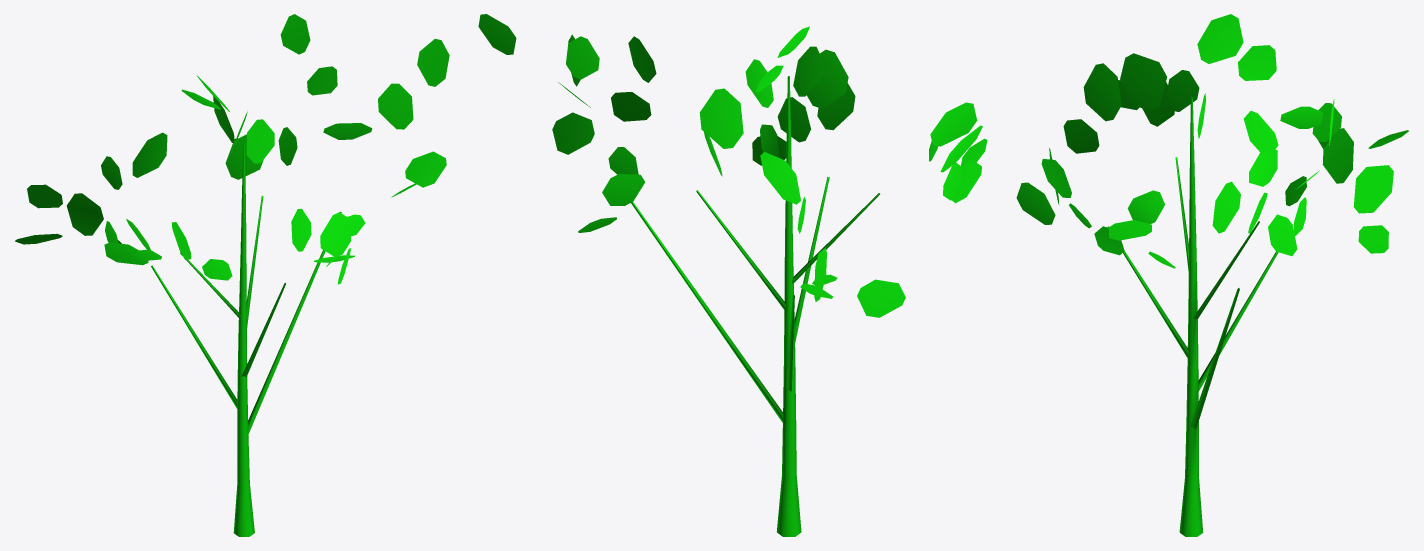
The model's file is tree_maple_b_lod1.glb.
The picture shows the model from 3 angles, left to right: view 1: azimuth 30°, elevation 25°; view 2: azimuth 150°, elevation 25°; view 3: azimuth 270°, elevation 25°; orthographic projection. The views are drawn at different scales.
Visible parts, largest first — view 1: tree_maple_b_lod1.1, tree_maple_b_lod1.0; view 2: tree_maple_b_lod1.1, tree_maple_b_lod1.0; view 3: tree_maple_b_lod1.1, tree_maple_b_lod1.0.
Part boxes in pixels (x1,y1,x2,y2): tree_maple_b_lod1.1: (15, 14, 449, 284); tree_maple_b_lod1.0: (151, 141, 341, 536); tree_maple_b_lod1.1: (478, 14, 987, 317); tree_maple_b_lod1.0: (631, 76, 879, 536); tree_maple_b_lod1.1: (1016, 14, 1408, 268); tree_maple_b_lod1.0: (1107, 97, 1278, 536).
Bounding box in the file's own units: 16.14 × 17.44 × 12.35.
